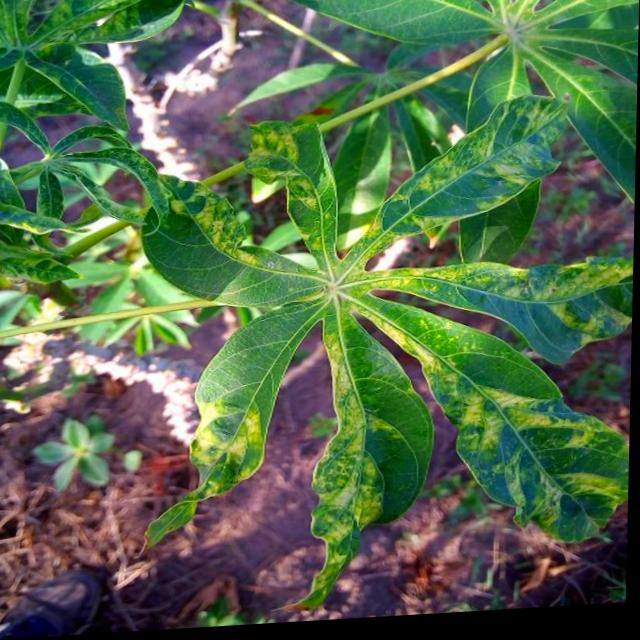Mosaico: (217, 131, 607, 566), (452, 2, 622, 210), (0, 100, 167, 248), (0, 0, 198, 117)
